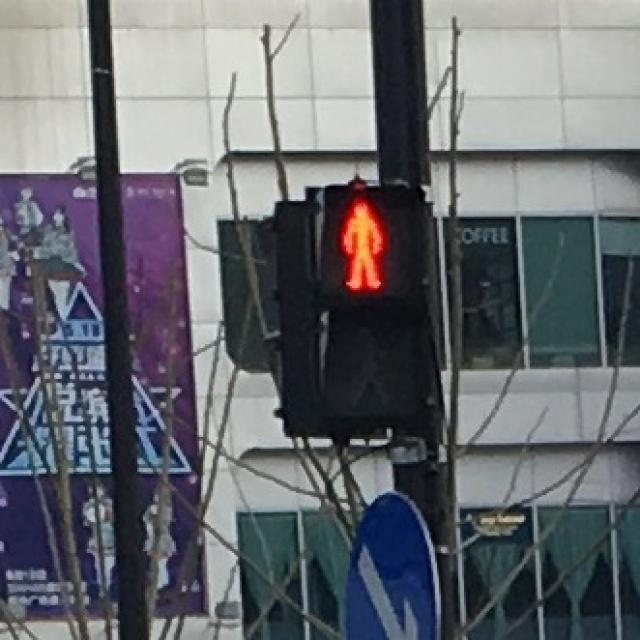red-crossing: (317, 189, 406, 294)
